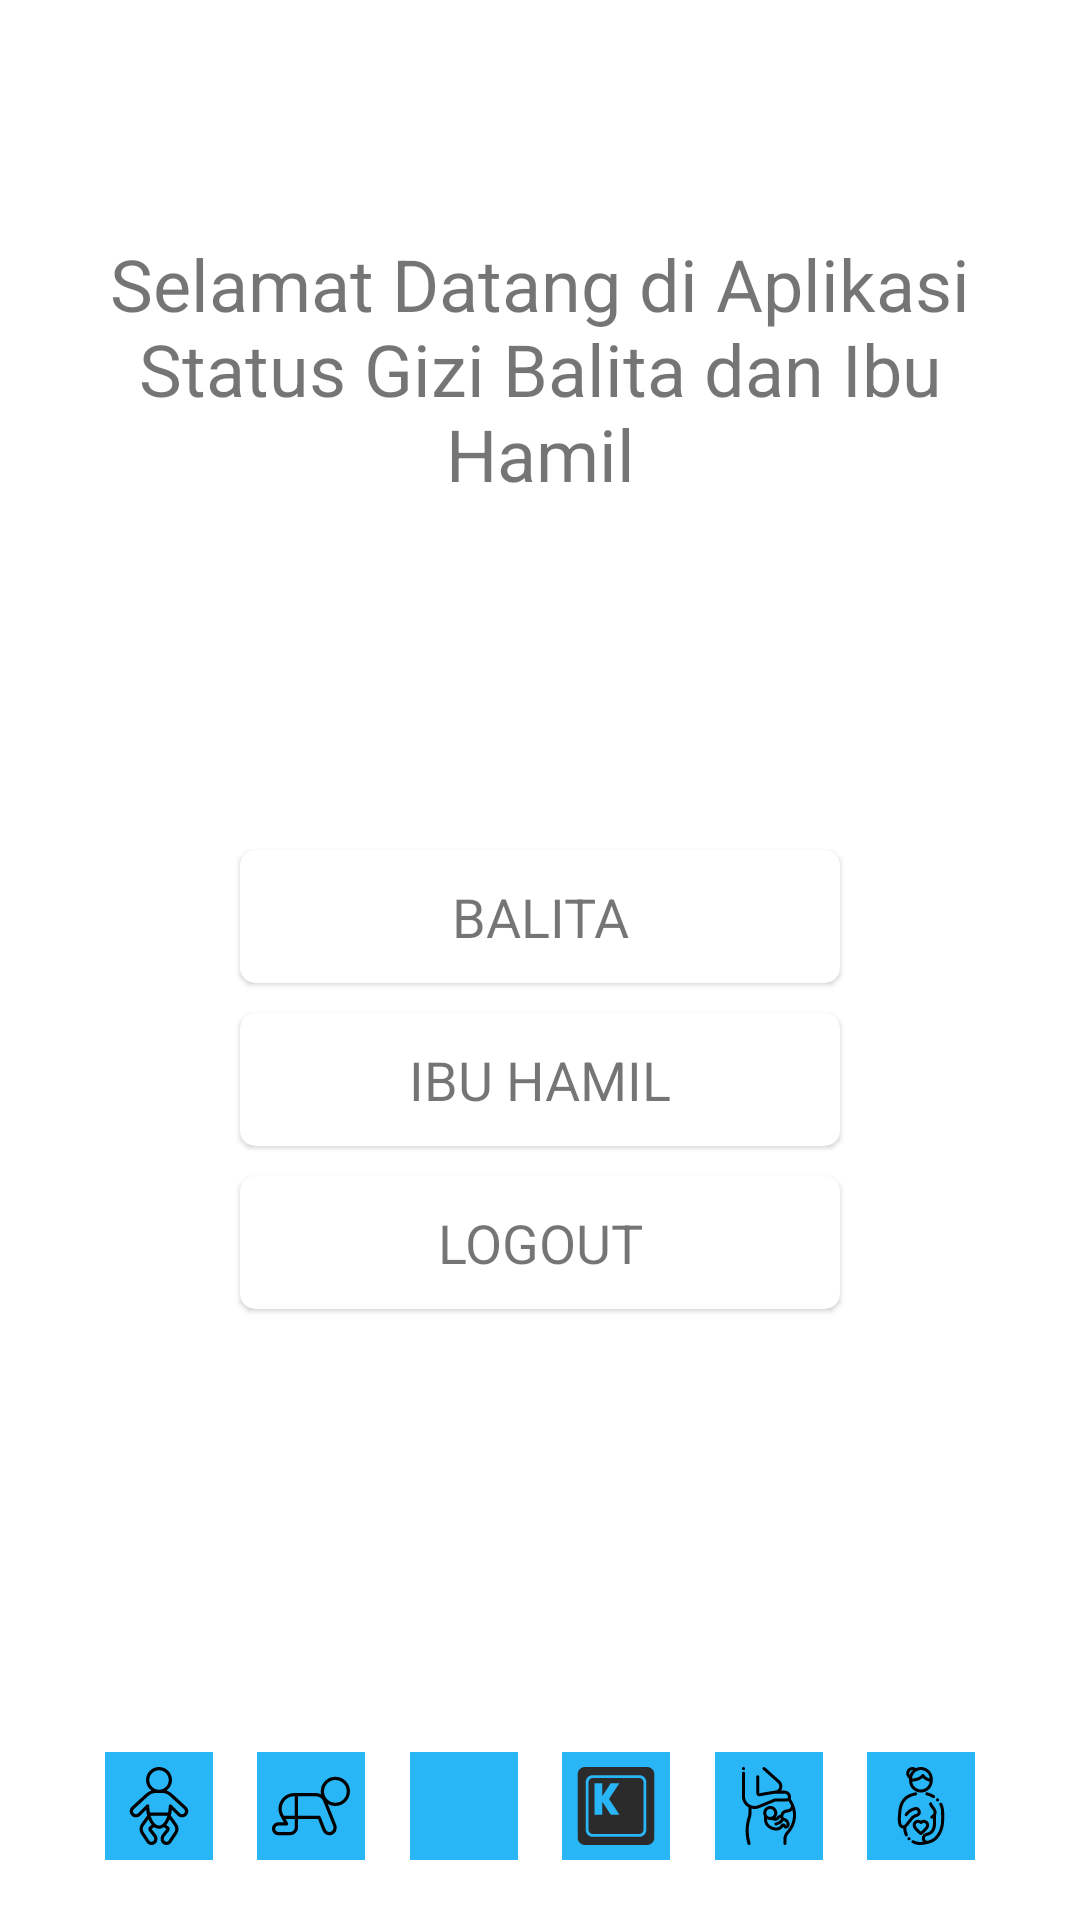

Icons on this 1080w x 1920h Android screen, each with the point to tap as (x=x, y=y):
keyboard key: (x=616, y=1806)
pregnant training: (x=769, y=1806)
